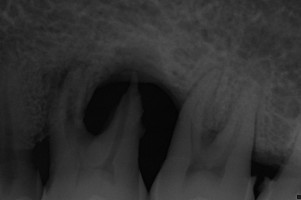Dental Caries: (82, 42, 190, 136)
Furcation Involvement: (40, 58, 93, 108)
